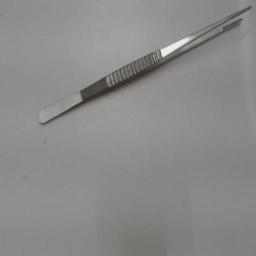DeBakey Dissector: (34, 4, 254, 142)
